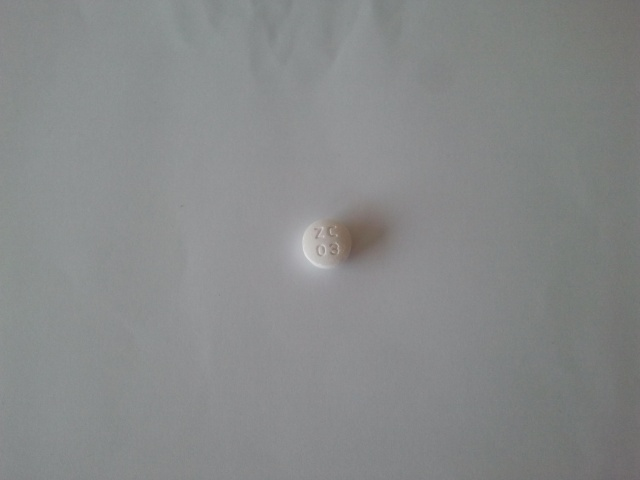0: (314, 241, 326, 259)
3: (327, 240, 343, 259)
C: (326, 224, 337, 242)
Z: (312, 225, 328, 242)
